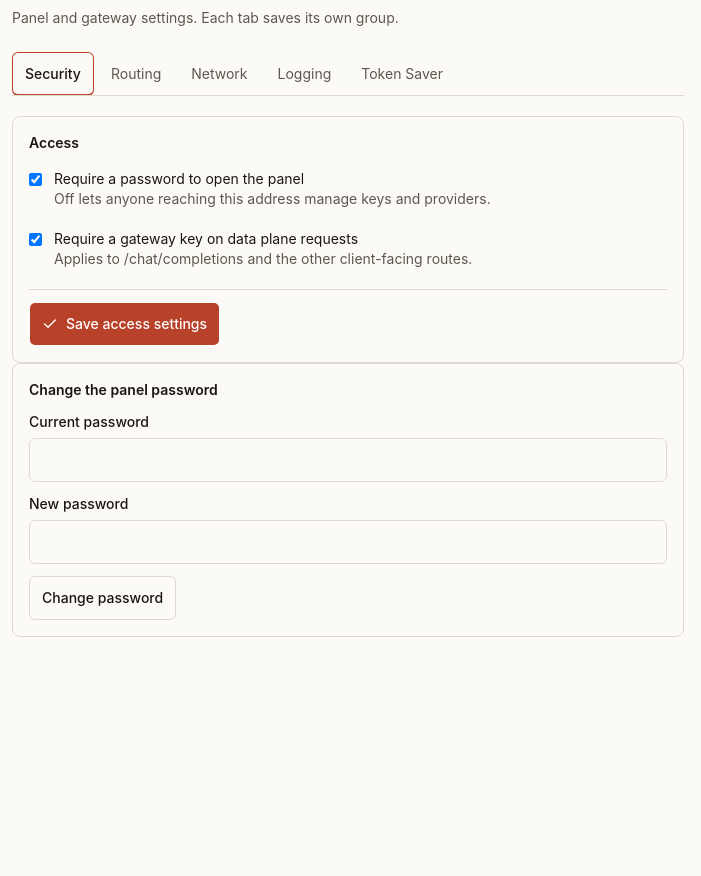
Test case: the routing tab failure-class editor › offers the six classes that implicate a credential, and none of the three that do not
Expected: the element showing "Security Routing Network Logging Token Saver" is shown, [12,52,684,96]
What coordinates should you click on to do the following:
click the tab "Routing"
I would click on:
 (136, 74)
Its box is [98,52,174,96].
(page scrolled)
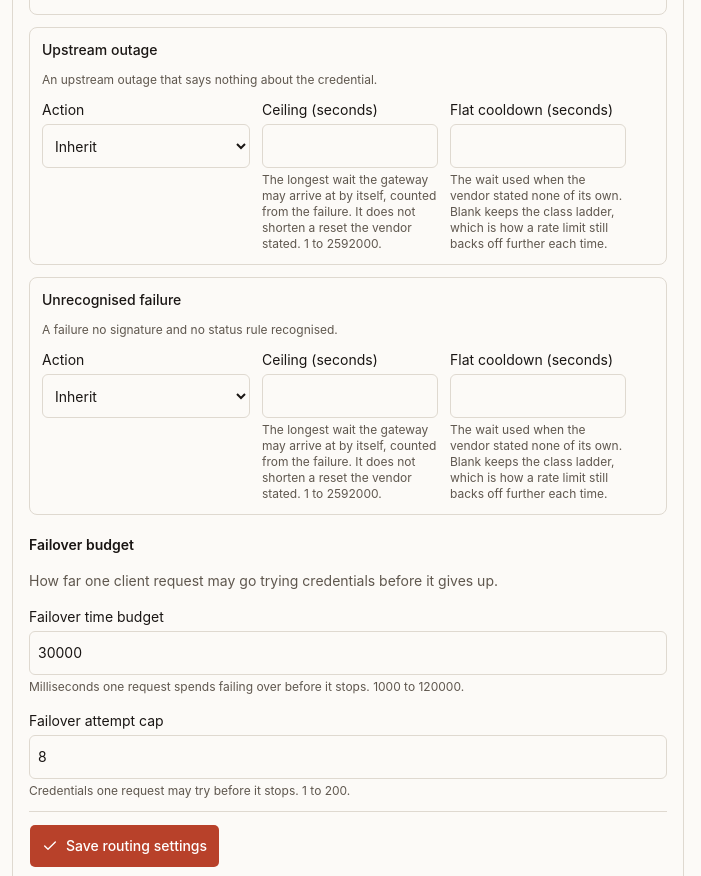
Expected: the element named "Upstream outage" is shown, [42,100,654,252]
Expected: the element named "Unrecognised failure" is shown, [42,350,654,502]
